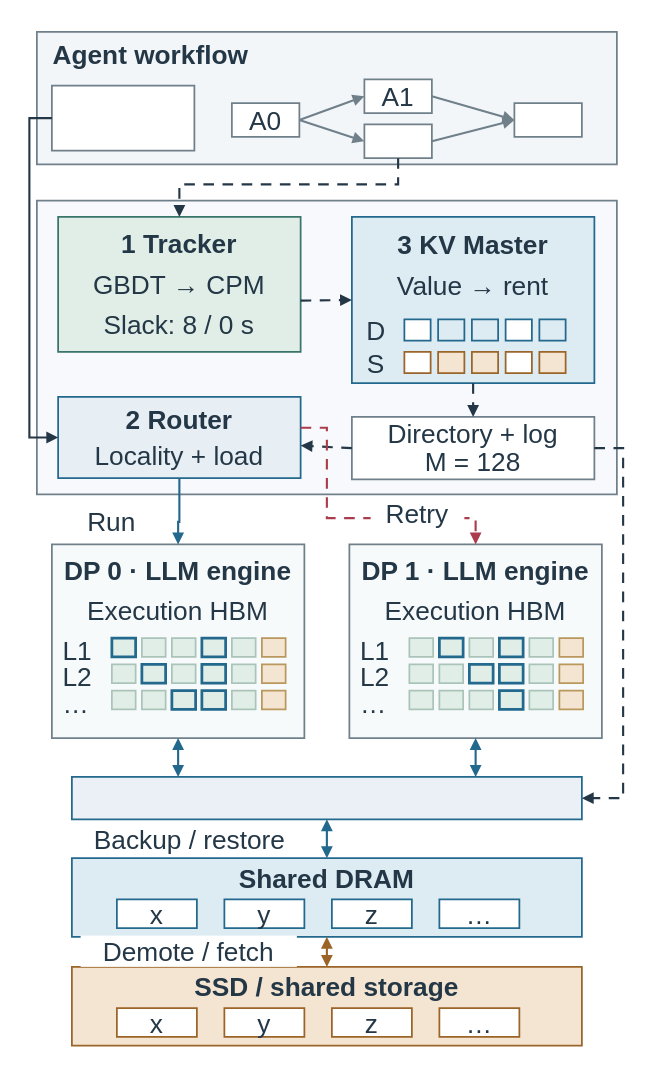
Some shapes in this 655 by 1086 pixel diagram are drawn without their labels. The shapes that lost their labels are listed below. From the top down, each one's centre as x and y in pixels, then its label:
At point (122, 117): "Request Agent / WF".
At point (547, 119): "A3".
At point (397, 140): "A2".
At point (326, 797): "Engine hooks + KV transfer".
